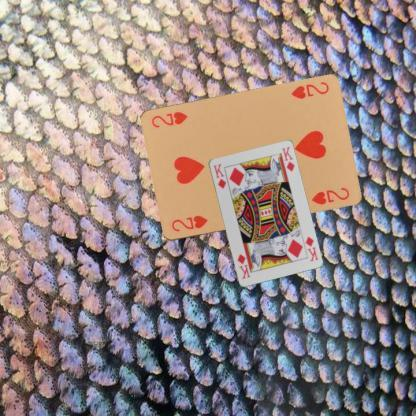2h: (288, 79, 330, 101), (168, 213, 209, 233)
Kd: (302, 233, 320, 262), (210, 161, 227, 190)
